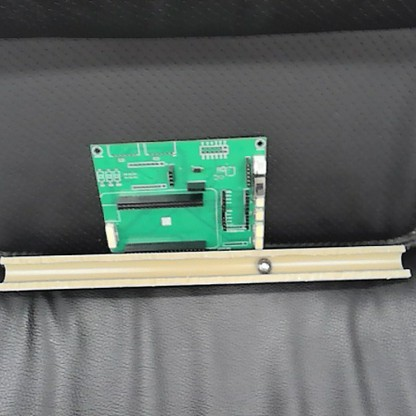ironball: (253, 254, 273, 274)
